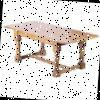Mesa: (0, 19, 97, 80)
